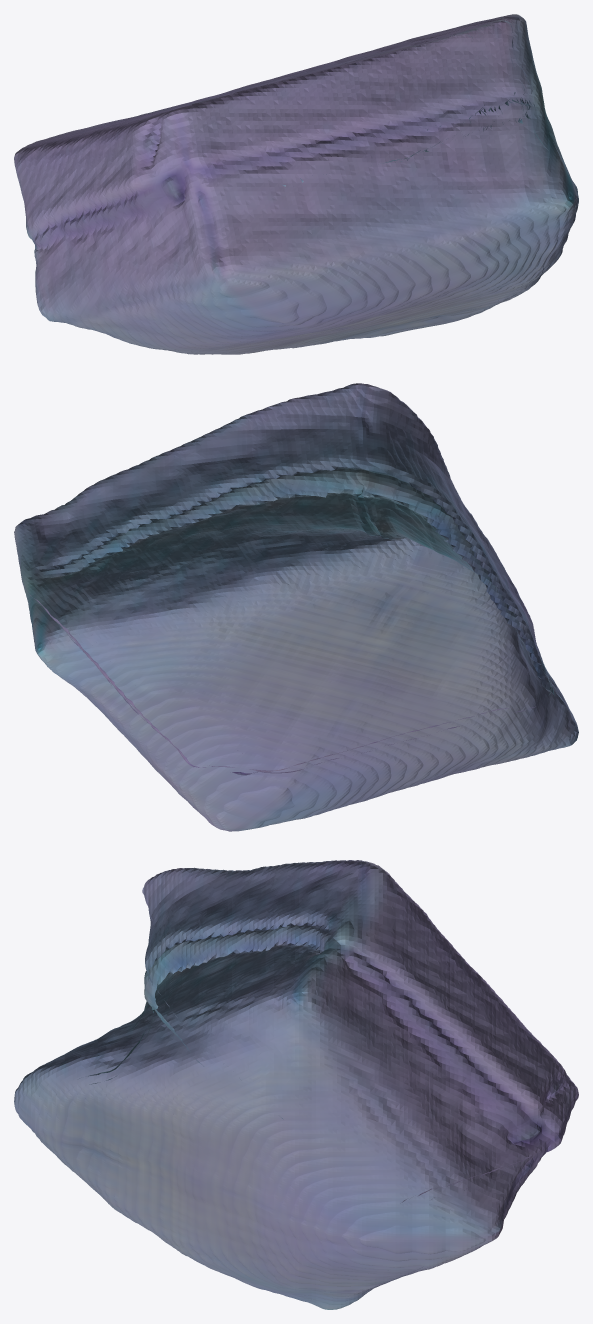
3 views of the same model, one above another, from view 1: azimuth 30°, elevation 25°; view 2: azimuth 150°, elevation 25°; view 3: azimuth 270°, elevation 25° (orthographic). The views are drawn at different scales.
Visible parts, largest first — view 1: geometry_0; view 2: geometry_0; view 3: geometry_0.
Boxes of the visible parts, <box> form: geometry_0: <box>14,14,578,354</box>; geometry_0: <box>14,383,578,831</box>; geometry_0: <box>14,860,578,1309</box>.
Size of the model in its own units: 1.6 by 0.9657 by 1.37.
